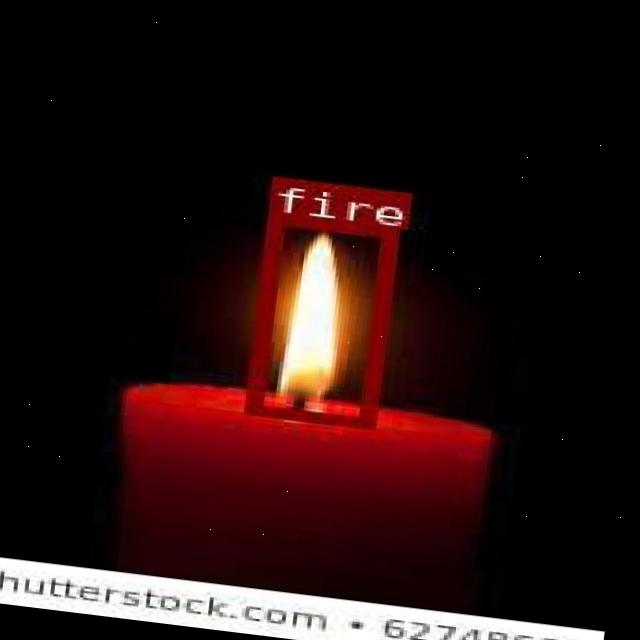fire: (240, 212, 394, 426)
